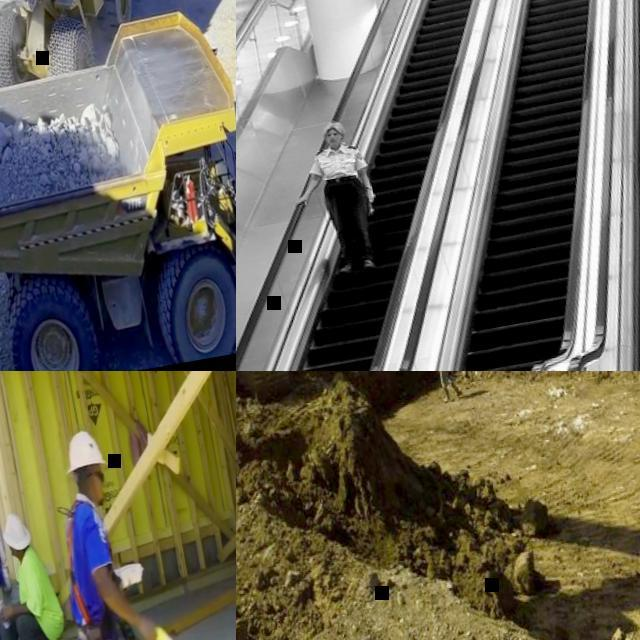Helmet: (38, 427, 118, 476), (0, 506, 45, 559)
Robbery: (47, 418, 184, 640), (293, 104, 417, 301), (0, 497, 67, 640)
